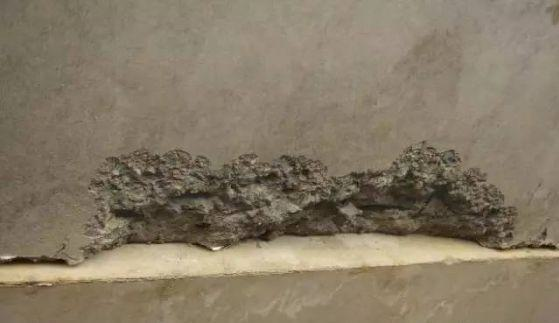Spalling: (81, 139, 520, 260)
